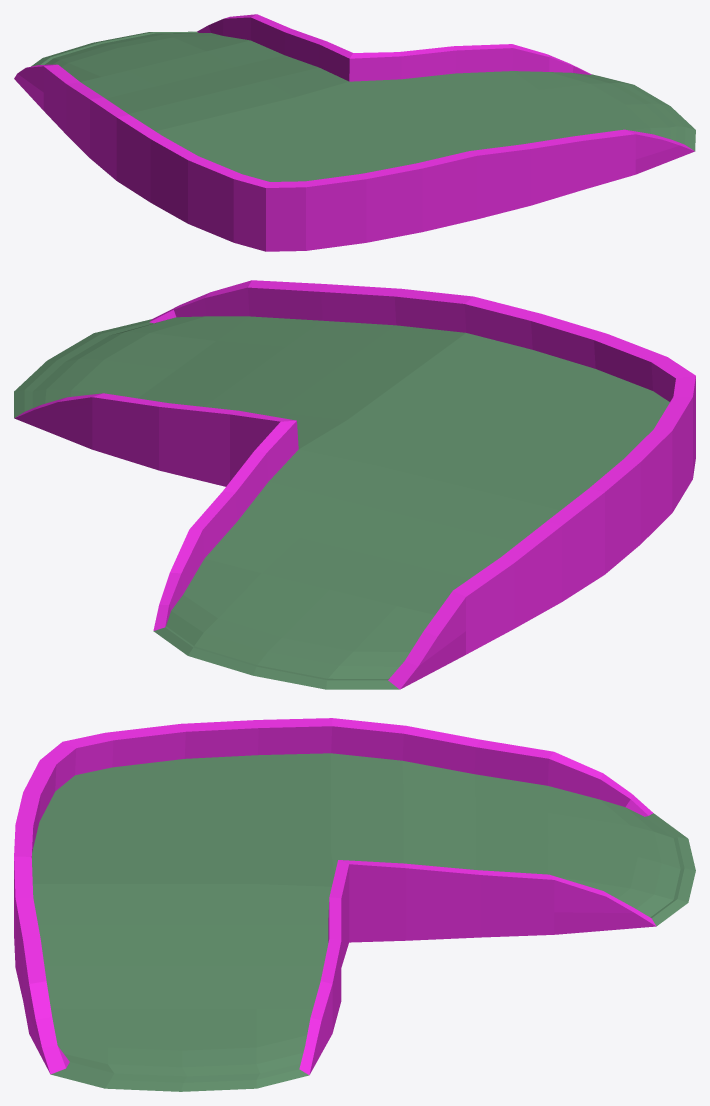
Rendered from park RAMP.fbx.
3 views of the same model, one above another, from view 1: azimuth 30°, elevation 25°; view 2: azimuth 150°, elevation 25°; view 3: azimuth 270°, elevation 25° (orthographic). The views are drawn at different scales.
Visible parts, largest first — view 1: decoracion2.001; view 2: decoracion2.001; view 3: decoracion2.001.
Part boxes in pixels (x1=…): decoracion2.001: x1=14, y1=14, x2=695, y2=251; decoracion2.001: x1=14, y1=280, x2=695, y2=689; decoracion2.001: x1=14, y1=718, x2=695, y2=1091.
Bounding box in the file's own units: 530 × 65.51 × 517.
